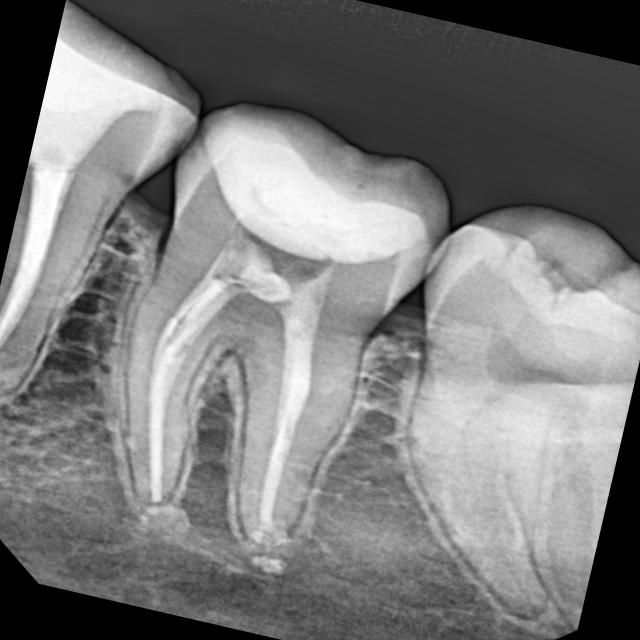RCT: (63, 219, 418, 591)
Restoration: (150, 80, 460, 298)
